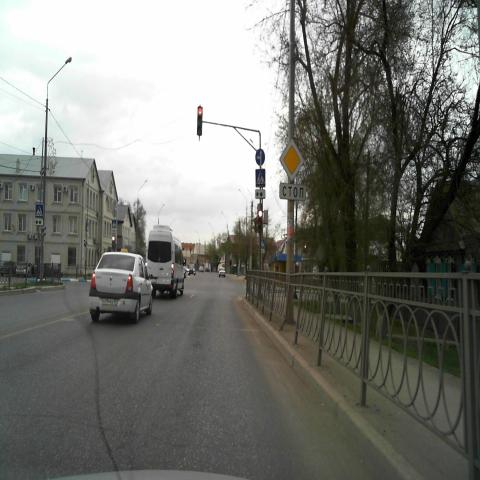4_1_5: (255, 150, 265, 166)
